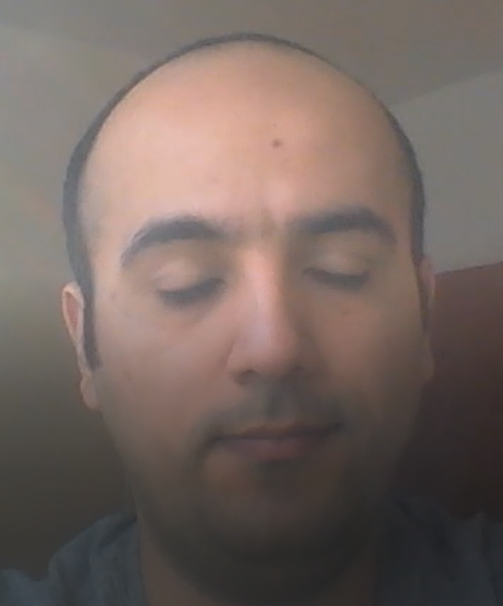Sleeping: (120, 205, 407, 329)
